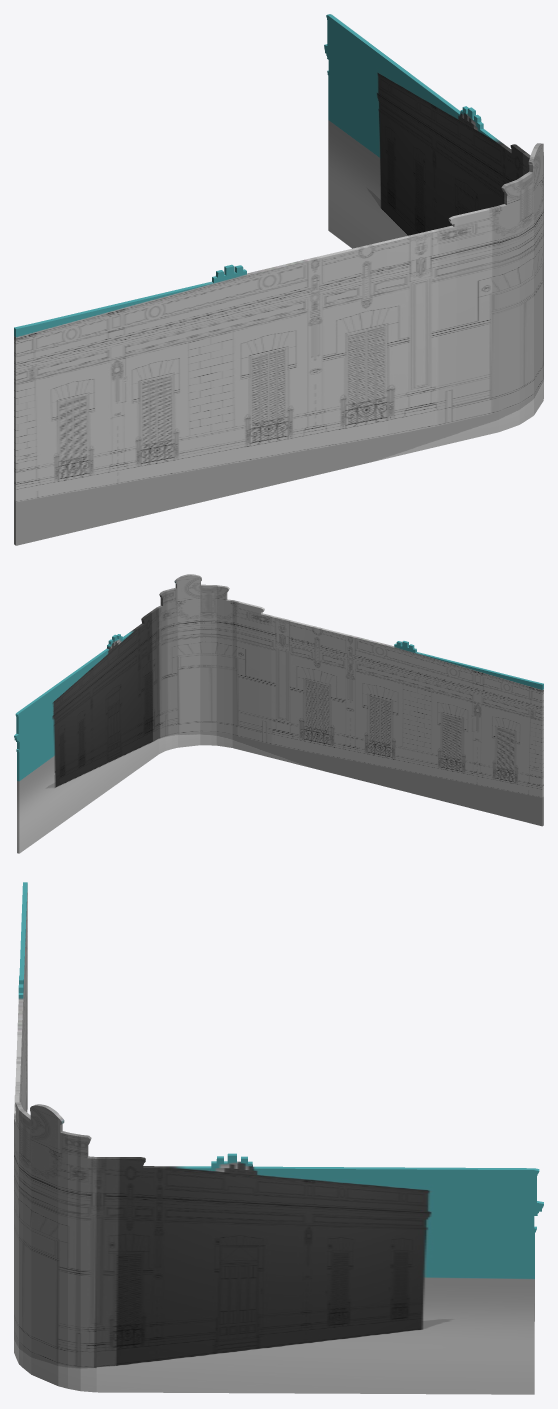
Rendered from modelo3D_CCUNGS_SinFondo001.dae.
3 renders of one model, top to bottom at view 1: azimuth 30°, elevation 25°; view 2: azimuth 150°, elevation 25°; view 3: azimuth 270°, elevation 25°, orthographic. The views are drawn at different scales.
Visible parts, largest first — view 1: Plane; view 2: Plane; view 3: Plane.
Part boxes in pixels (x1,y1,x2,y2): Plane: (14,14,543,545); Plane: (14,574,543,853); Plane: (14,882,543,1394).
Bounding box in the file's own units: 6.8 × 5.33 × 3.03.
Materials: 1 (1 with a texture image).
